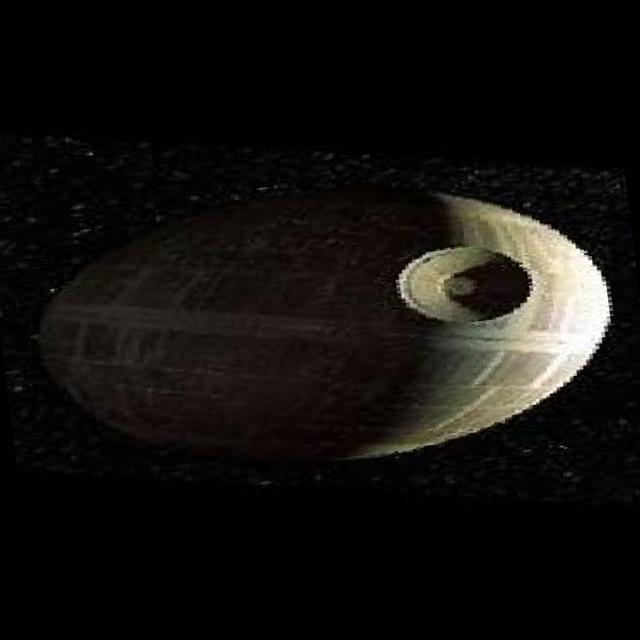Death Star: (21, 139, 627, 533)
